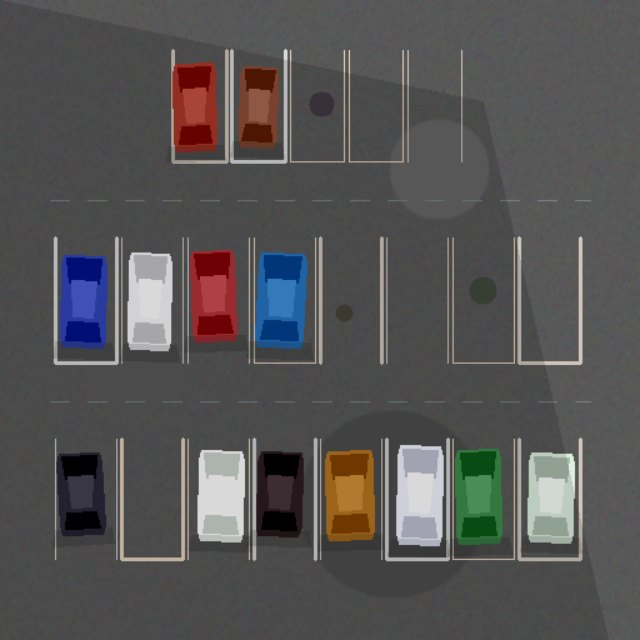space-empty: (320, 238, 381, 362), (386, 238, 447, 362), (453, 238, 514, 362), (519, 238, 580, 362), (121, 439, 183, 559), (290, 50, 344, 161), (349, 50, 402, 161), (408, 50, 461, 161)
space-occupied: (121, 238, 183, 362), (187, 238, 249, 362), (55, 238, 116, 362), (254, 238, 315, 362), (187, 439, 249, 559), (55, 439, 116, 559), (254, 439, 315, 559), (320, 439, 381, 559), (386, 439, 447, 559), (453, 439, 514, 559), (519, 439, 580, 559), (172, 50, 226, 161), (231, 50, 285, 161)
